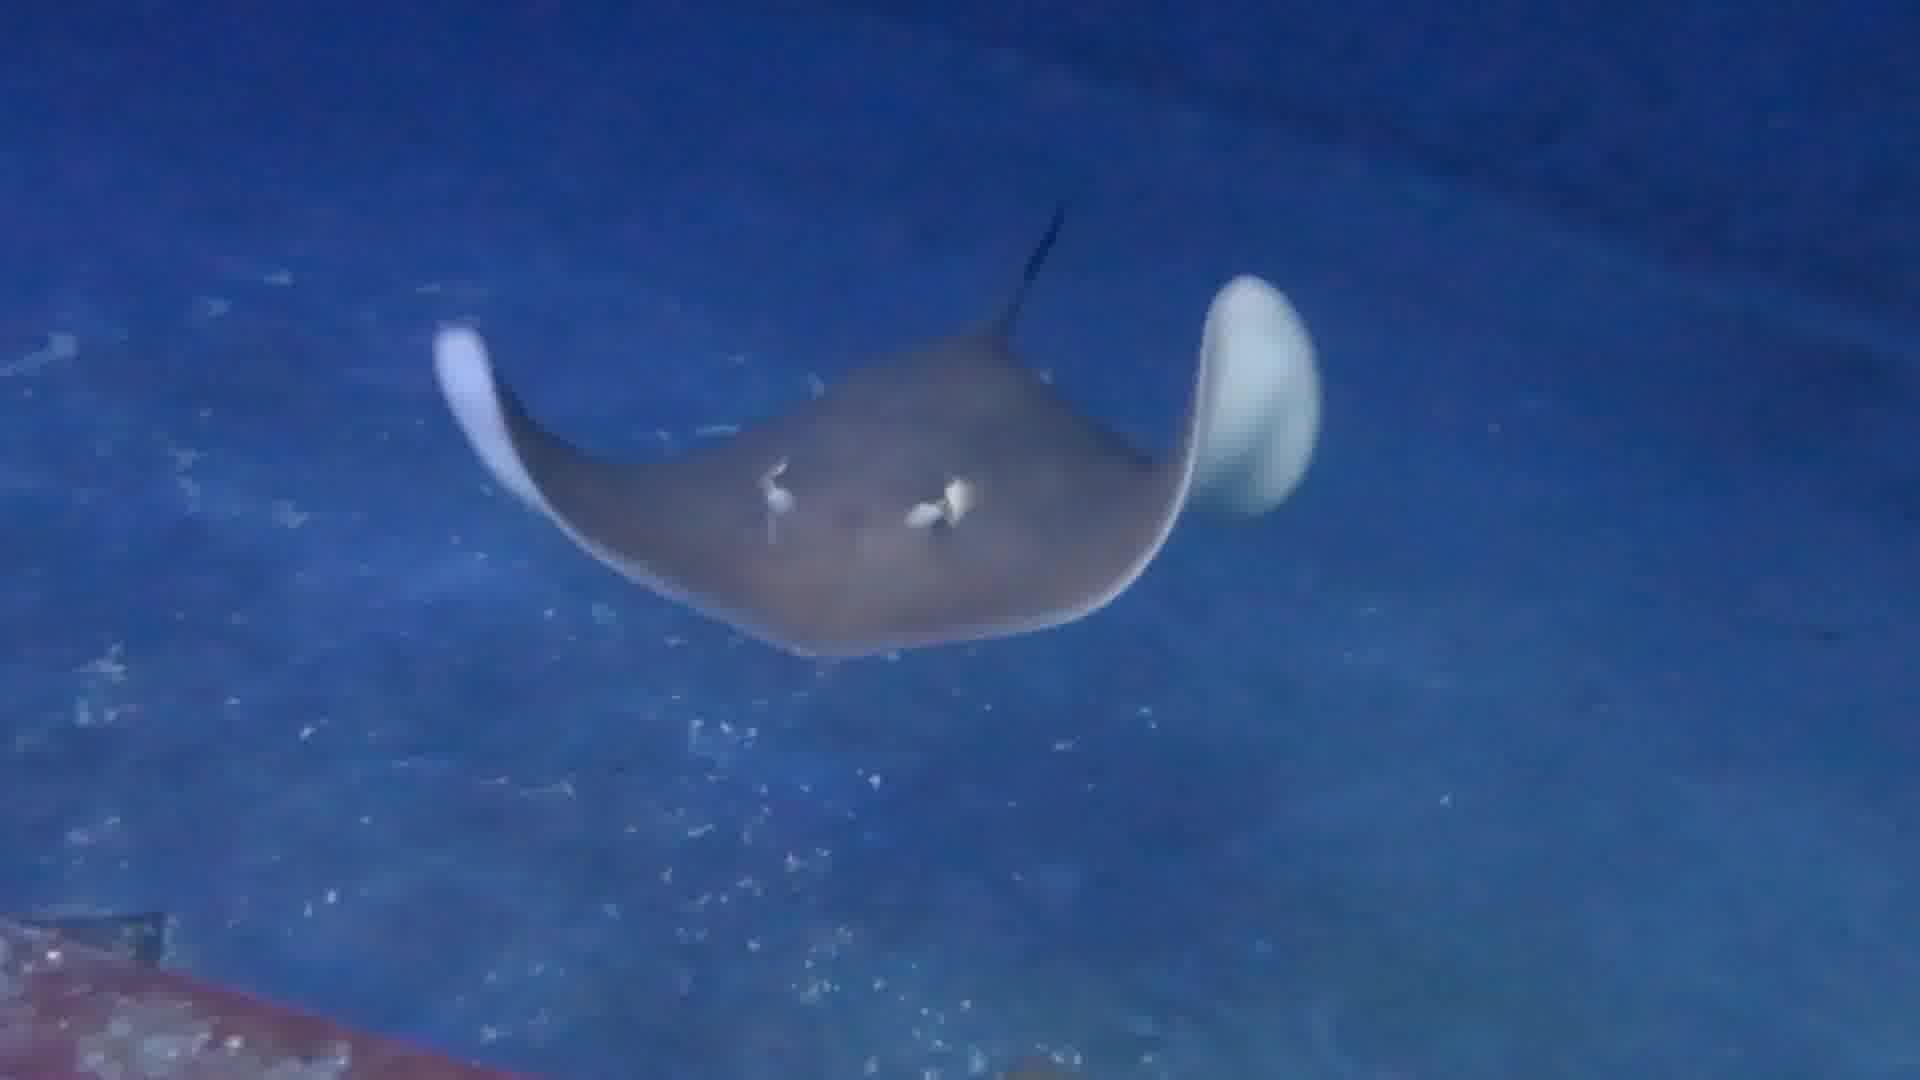Dasyatis akajei: (369, 133, 1400, 700)
